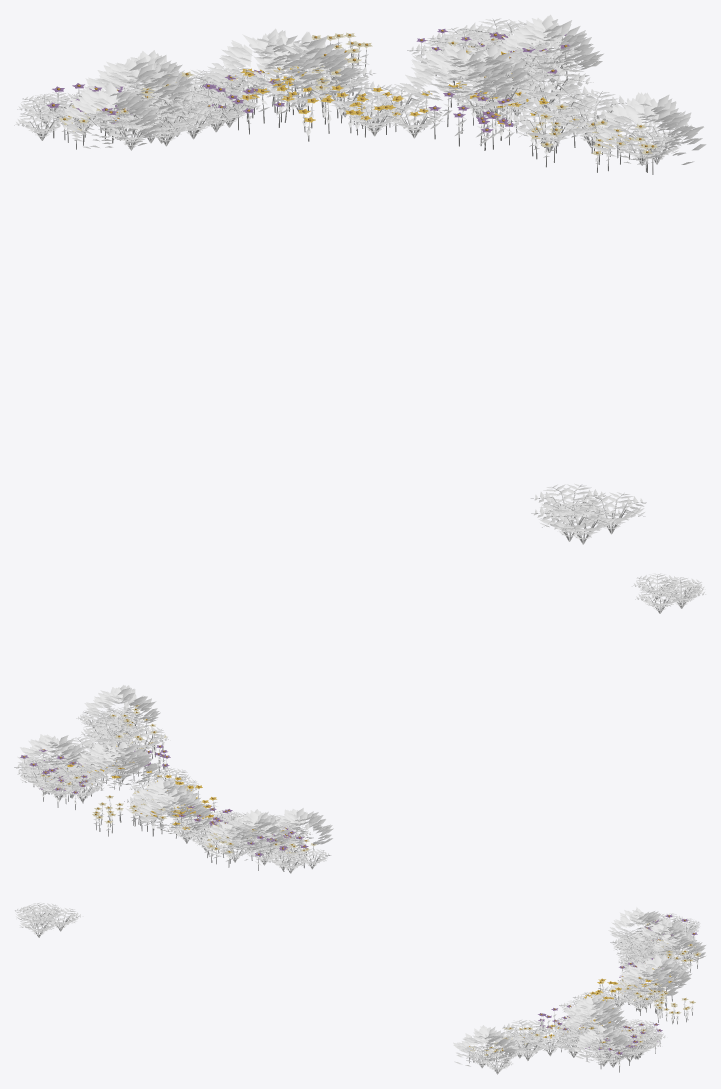
Rendered from SM_NW_Nature_1_1_Flora.fbx.
The picture shows the model from 3 angles, top to bottom: view 1: azimuth 30°, elevation 25°; view 2: azimuth 150°, elevation 25°; view 3: azimuth 270°, elevation 25°; orthographic projection. The views are drawn at different scales.
Visible parts, largest first — view 1: SM_NW_Nature_1_1_Flora; view 2: SM_NW_Nature_1_1_Flora; view 3: SM_NW_Nature_1_1_Flora.
Part boxes in pixels (x1,y1,x2,y2): SM_NW_Nature_1_1_Flora: [14, 14, 706, 544]; SM_NW_Nature_1_1_Flora: [14, 573, 705, 873]; SM_NW_Nature_1_1_Flora: [15, 902, 705, 1074].
Bounding box in the file's own units: 997 × 1890 × 132.
